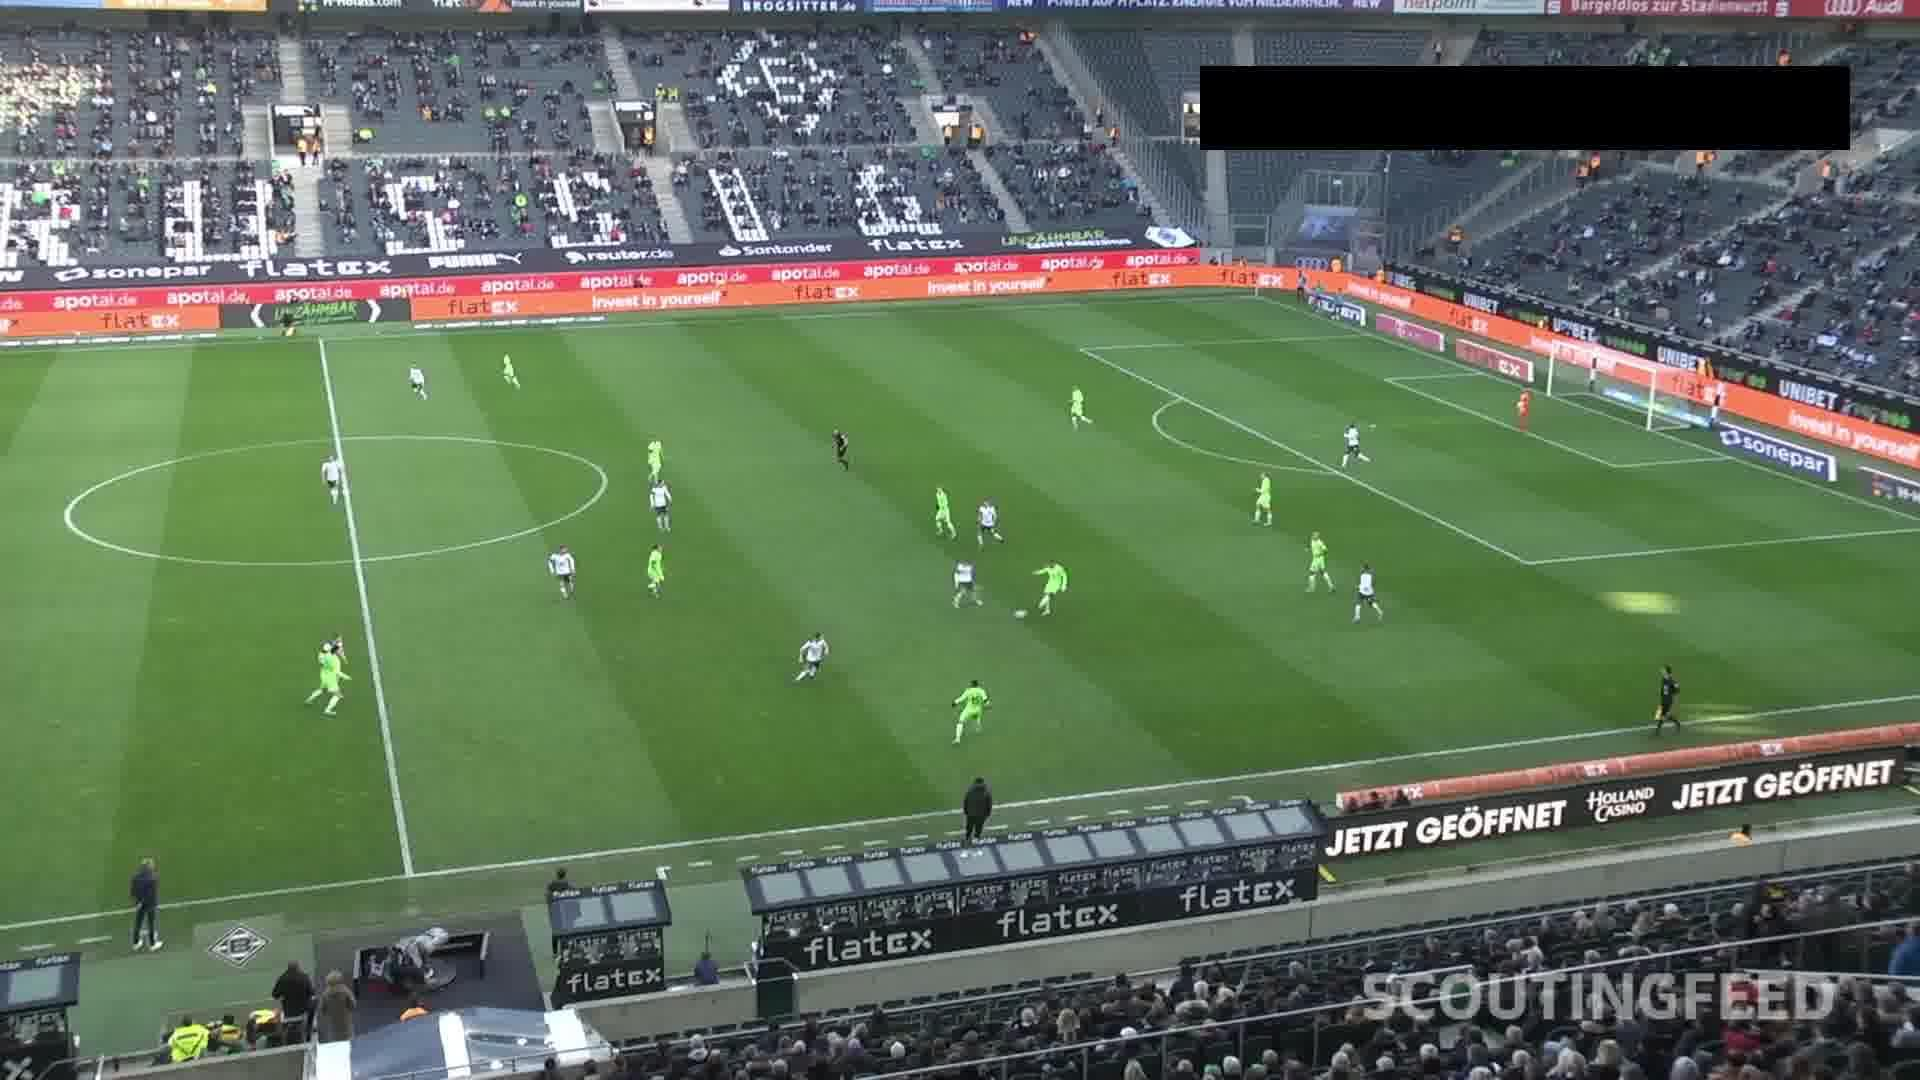football: (1014, 609, 1029, 620)
